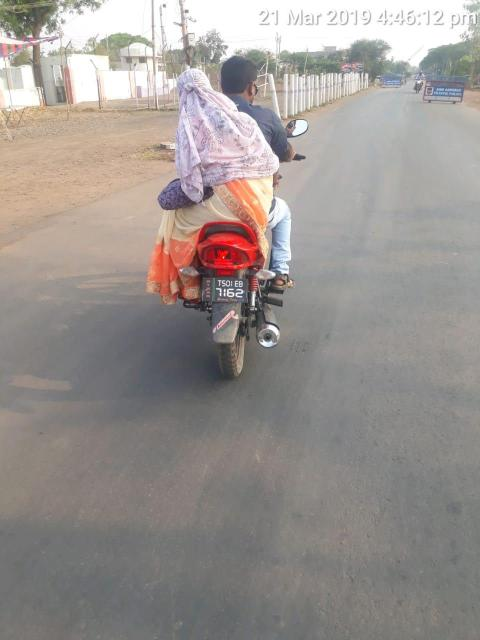motor: (179, 119, 312, 383)
non-helm: (221, 56, 262, 106), (173, 69, 217, 112)
